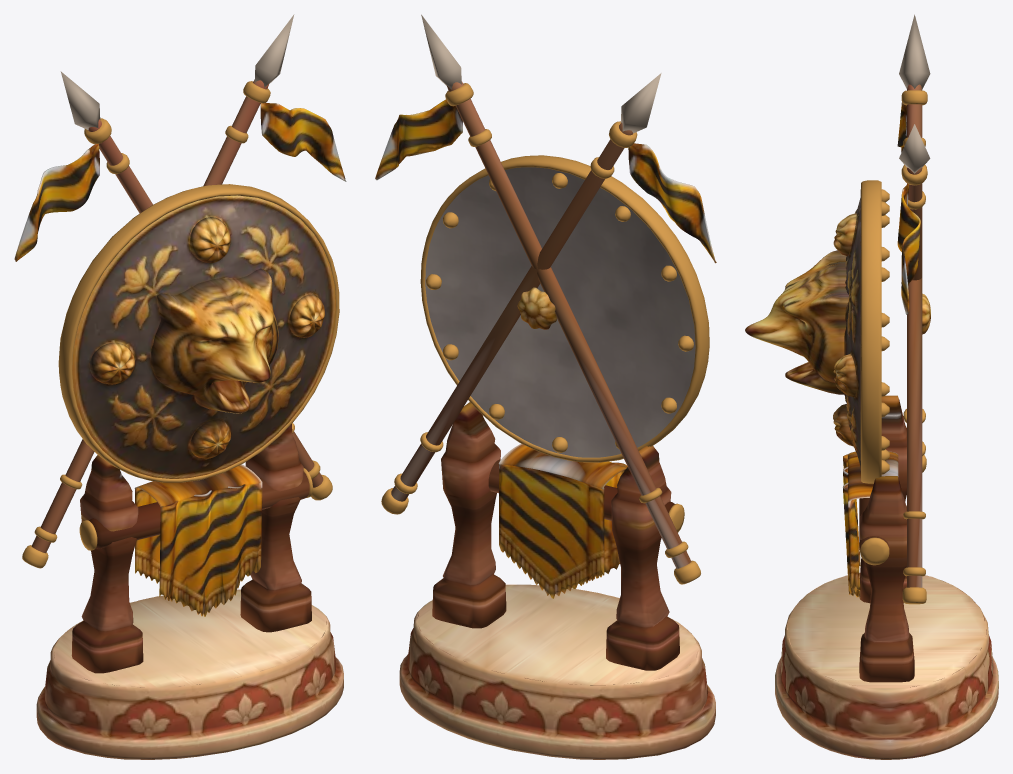
File: relic-tiger.glb
3 views of the same model, side by side, from view 1: azimuth 30°, elevation 25°; view 2: azimuth 150°, elevation 25°; view 3: azimuth 270°, elevation 25° (orthographic). The views are drawn at different scales.
Visible parts, largest first — view 1: Convex dhal • relief gilding, Lotus-painted sandstone plinth, Snarling tiger • sculpted gold boss, Brocade sash with fringed edge, Carved teak upright, Carved teak upright.001, Rolled gilt edge, Striped saffron silk pennant, Striped saffron silk pennant.001, Teak ceremonial standard.001, Teak crossbar, Silk folded across rail (+8 smaller); view 2: Dhal reverse, Lotus-painted sandstone plinth, Brocade sash with fringed edge.001, Carved teak upright.001, Carved teak upright, Teak ceremonial standard.001, Rolled gilt edge, Teak ceremonial standard, Striped saffron silk pennant, Striped saffron silk pennant.001, Silk folded across rail, Faceted steel finial (+4 smaller); view 3: Lotus-painted sandstone plinth, Carved teak upright.001, Snarling tiger • sculpted gold boss, Rolled gilt edge, Teak ceremonial standard, Convex dhal • relief gilding, Carved teak upright, Striped saffron silk pennant.001, Brocade sash with fringed edge, Faceted steel finial, Silk folded across rail, Faceted steel finial.001 (+5 smaller).
Boxes of the visible parts, bbox=[...] form: Convex dhal • relief gilding: bbox=[72, 195, 335, 478]; Lotus-painted sandstone plinth: bbox=[36, 590, 343, 759]; Snarling tiger • sculpted gold boss: bbox=[150, 268, 278, 413]; Brocade sash with fringed edge: bbox=[159, 482, 262, 616]; Carved teak upright: bbox=[71, 455, 143, 673]; Carved teak upright.001: bbox=[240, 424, 311, 632]; Rolled gilt edge: bbox=[58, 184, 339, 482]; Striped saffron silk pennant: bbox=[14, 144, 99, 261]; Striped saffron silk pennant.001: bbox=[260, 103, 346, 181]; Teak ceremonial standard.001: bbox=[31, 80, 268, 553]; Teak crossbar: bbox=[89, 471, 309, 548]; Silk folded across rail: bbox=[134, 464, 261, 506]; Dhal reverse: bbox=[425, 167, 695, 457]; Lotus-painted sandstone plinth: bbox=[399, 584, 715, 759]; Brocade sash with fringed edge.001: bbox=[499, 464, 604, 598]; Carved teak upright.001: bbox=[432, 402, 506, 628]; Carved teak upright: bbox=[606, 446, 679, 670]; Teak ceremonial standard.001: bbox=[447, 81, 691, 568]; Rolled gilt edge: bbox=[420, 155, 709, 462]; Teak ceremonial standard: bbox=[391, 122, 632, 501]; Striped saffron silk pennant: bbox=[628, 143, 716, 263]; Striped saffron silk pennant.001: bbox=[375, 99, 462, 180]; Silk folded across rail: bbox=[498, 444, 626, 489]; Faceted steel finial: bbox=[620, 73, 661, 133]; Lotus-painted sandstone plinth: bbox=[775, 573, 998, 759]; Carved teak upright.001: bbox=[859, 476, 914, 682]; Snarling tiger • sculpted gold boss: bbox=[745, 250, 848, 394]; Rolled gilt edge: bbox=[861, 180, 881, 483]; Teak ceremonial standard: bbox=[907, 84, 922, 587]; Convex dhal • relief gilding: bbox=[844, 189, 860, 470]; Carved teak upright: bbox=[859, 395, 906, 603]; Striped saffron silk pennant.001: bbox=[897, 184, 920, 314]; Brocade sash with fringed edge: bbox=[843, 454, 860, 598]; Faceted steel finial: bbox=[899, 14, 930, 89]; Silk folded across rail: bbox=[848, 451, 898, 501]; Faceted steel finial.001: bbox=[899, 124, 930, 173].
Size of the model in its own units: 0.249 by 0.4694 by 0.1722.
8 materials, 6 textured.
